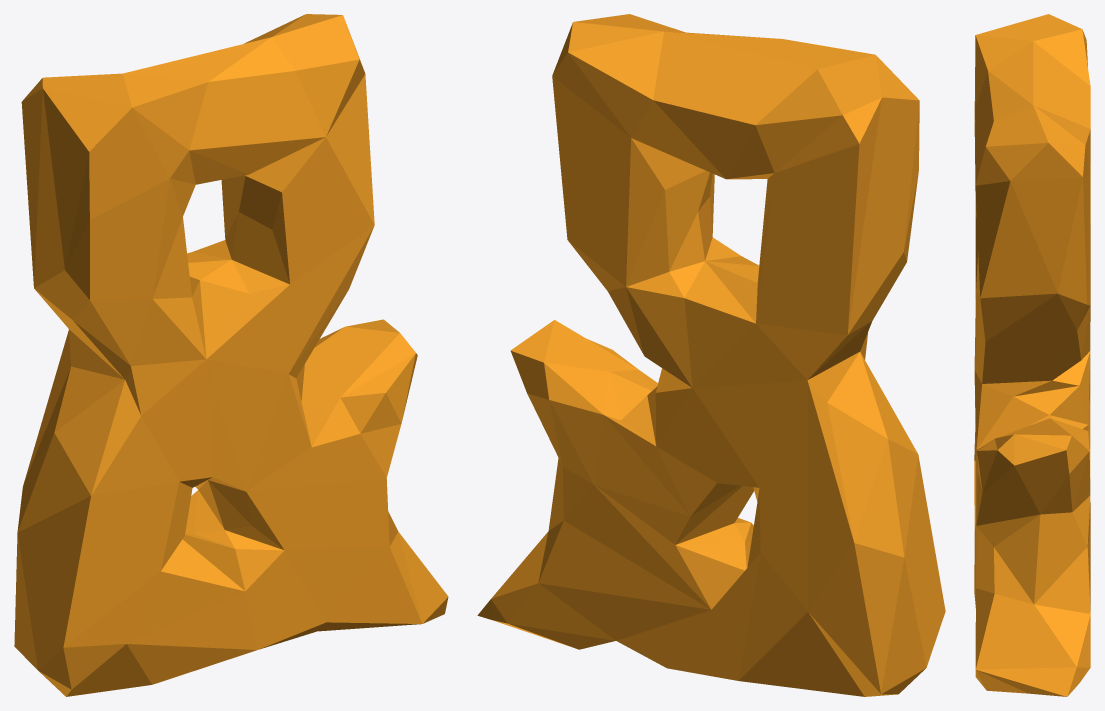
File: SM_Icon_Letter_And_01.fbx
The picture shows the model from 3 angles, left to right: view 1: azimuth 30°, elevation 25°; view 2: azimuth 150°, elevation 25°; view 3: azimuth 270°, elevation 25°; orthographic projection. The views are drawn at different scales.
Visible parts, largest first — view 1: SM_Icon_Letter_And_01; view 2: SM_Icon_Letter_And_01; view 3: SM_Icon_Letter_And_01.
Part boxes in pixels (box(x1,y1,x2,y2)): SM_Icon_Letter_And_01: box(14, 14, 448, 696); SM_Icon_Letter_And_01: box(477, 14, 945, 696); SM_Icon_Letter_And_01: box(974, 14, 1090, 696).
Bounding box in the file's own units: 37.95 × 53.43 × 10.68.
